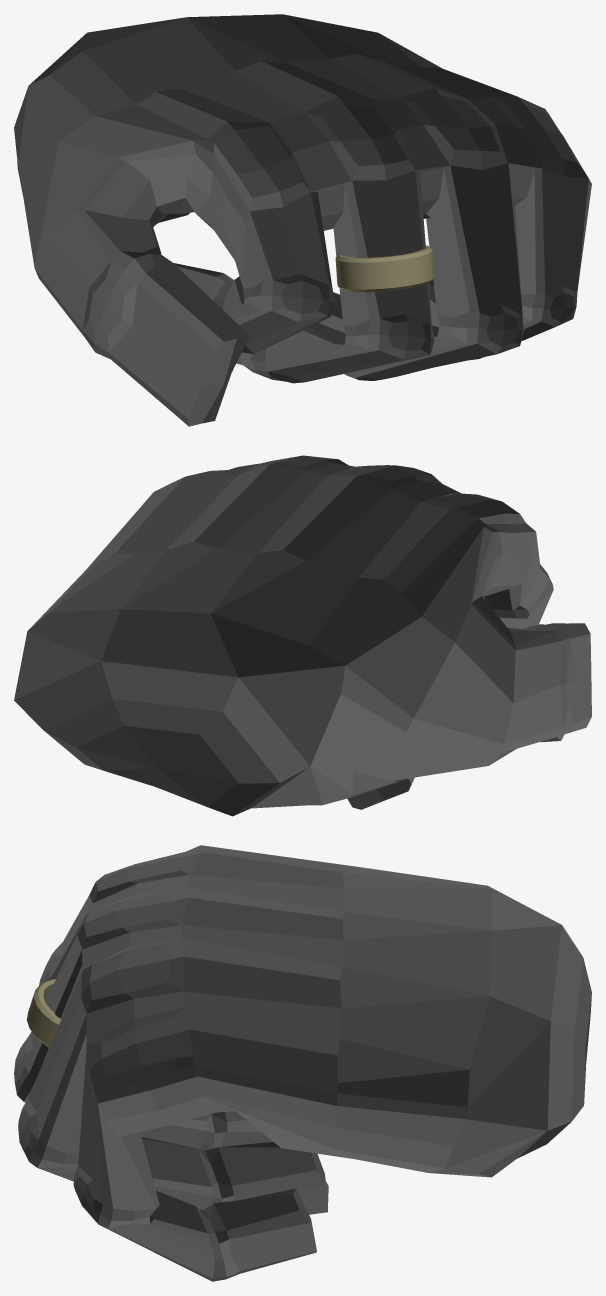
The model's file is arm_fist_v2.fbx.
3 renders of one model, top to bottom at view 1: azimuth 30°, elevation 25°; view 2: azimuth 150°, elevation 25°; view 3: azimuth 270°, elevation 25°, orthographic. The views are drawn at different scales.
Visible parts, largest first — view 1: polySurface7; view 2: polySurface7; view 3: polySurface7.
Part boxes in pixels (x1,y1,x2,y2): polySurface7: (14,14,591,426); polySurface7: (14,455,591,816); polySurface7: (14,845,591,1281).
Bounding box in the file's own units: 3.51 × 2.27 × 3.91.
